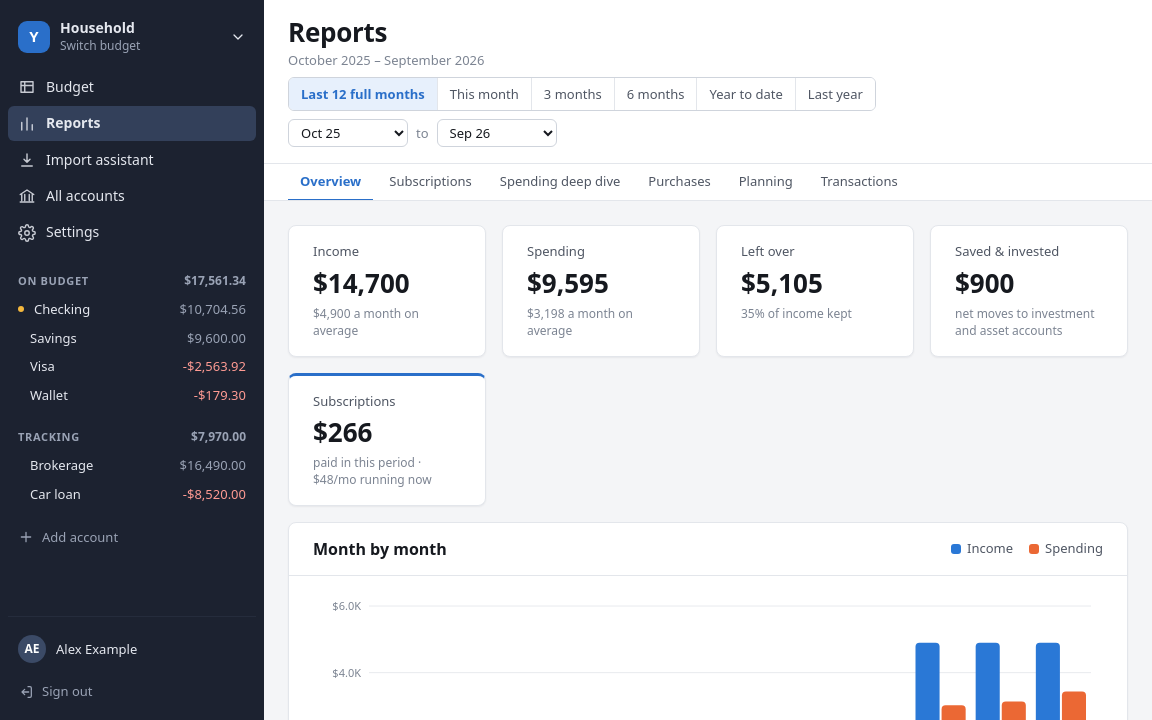
it: App › shows every report tab
Expected: the heading "Month by month" is shown, [313,538,447,560]
Click the tab "Subscriptions": (431, 183) [377,164,484,201]
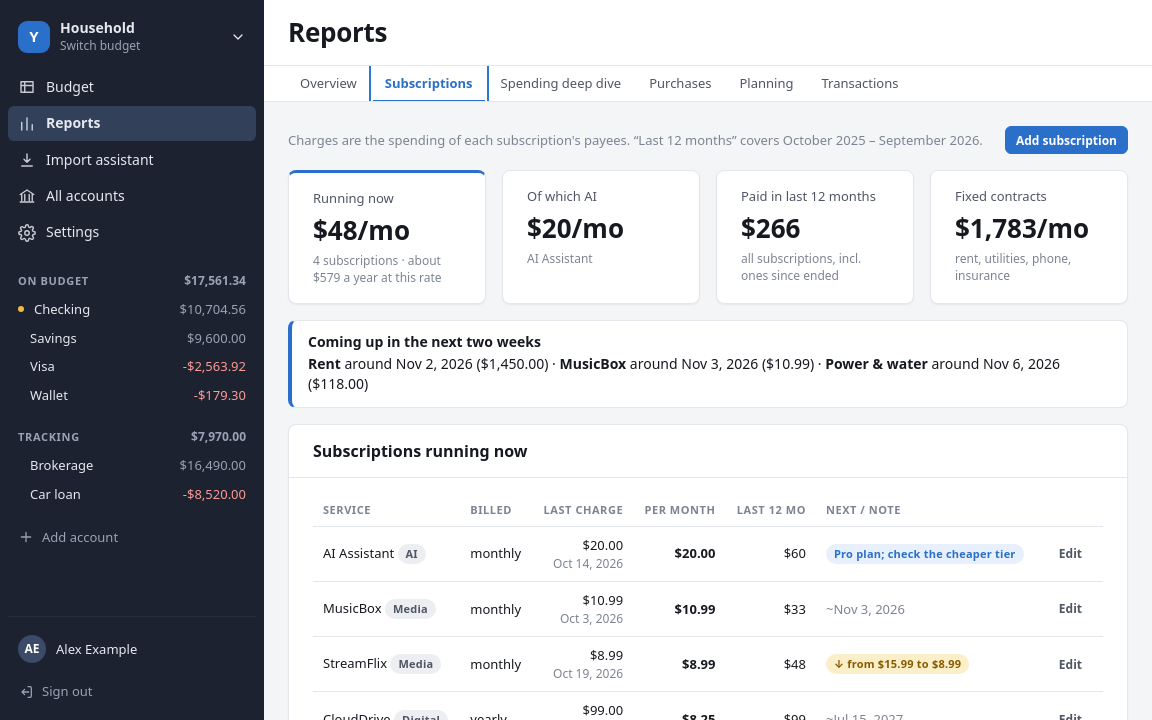
Expected: the heading "Subscriptions running now" is shown, [313,440,528,462]
Expected: the text "MusicBox" is shown, [560,354,626,373]
Click the tab "Spending deep dive": (561, 84) [488,66,633,102]
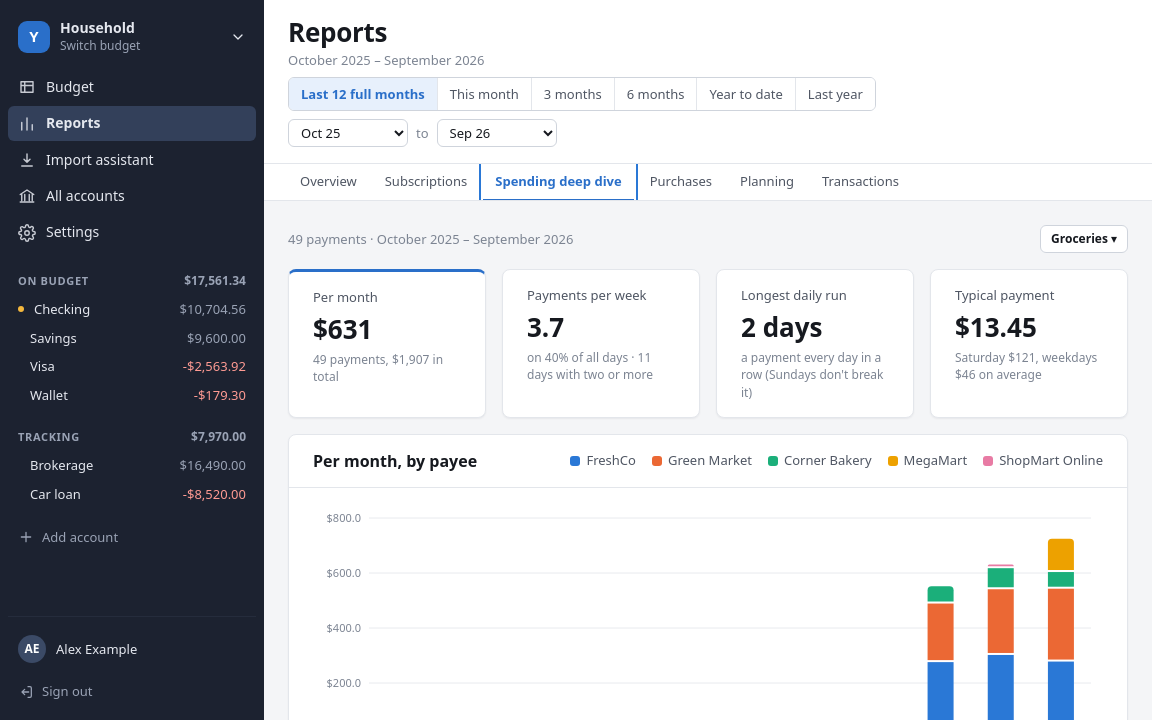
Expected: the heading "Per month, by payee" is shown, [313,450,477,472]
Click the tab "Purchases": (681, 183) [638,164,724,201]
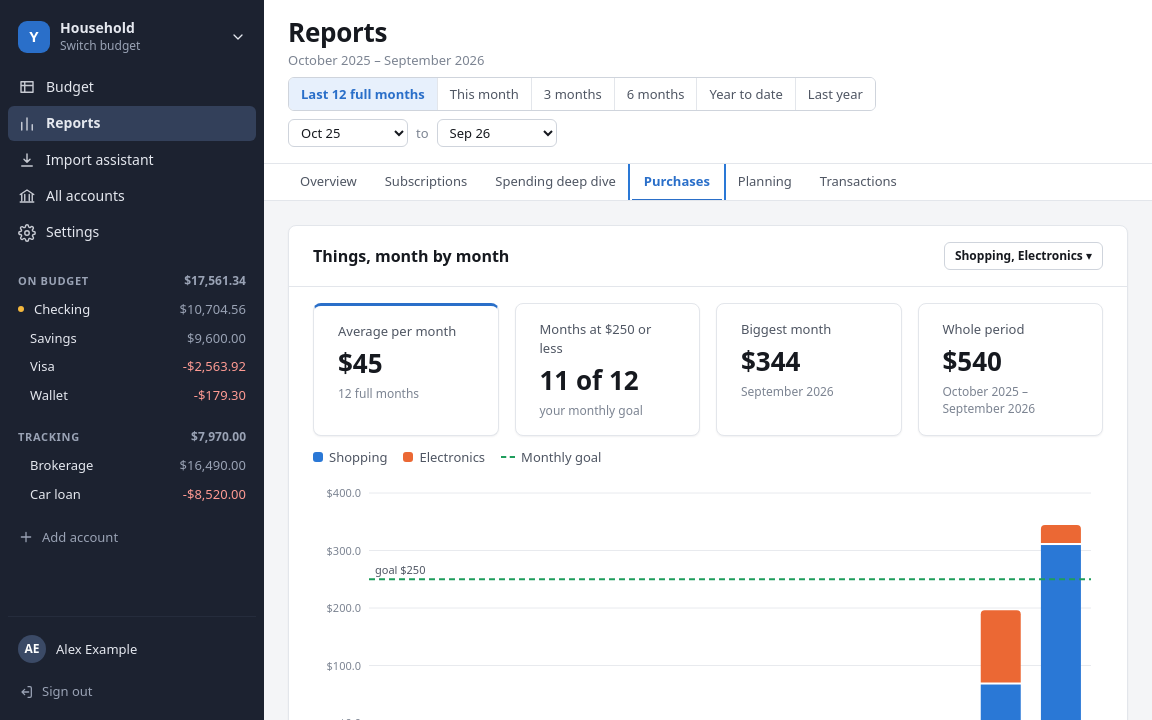
Expected: the heading "Things, month by month" is shown, [313,245,509,267]
Click the tab "Planning": (765, 183) [726,164,804,201]
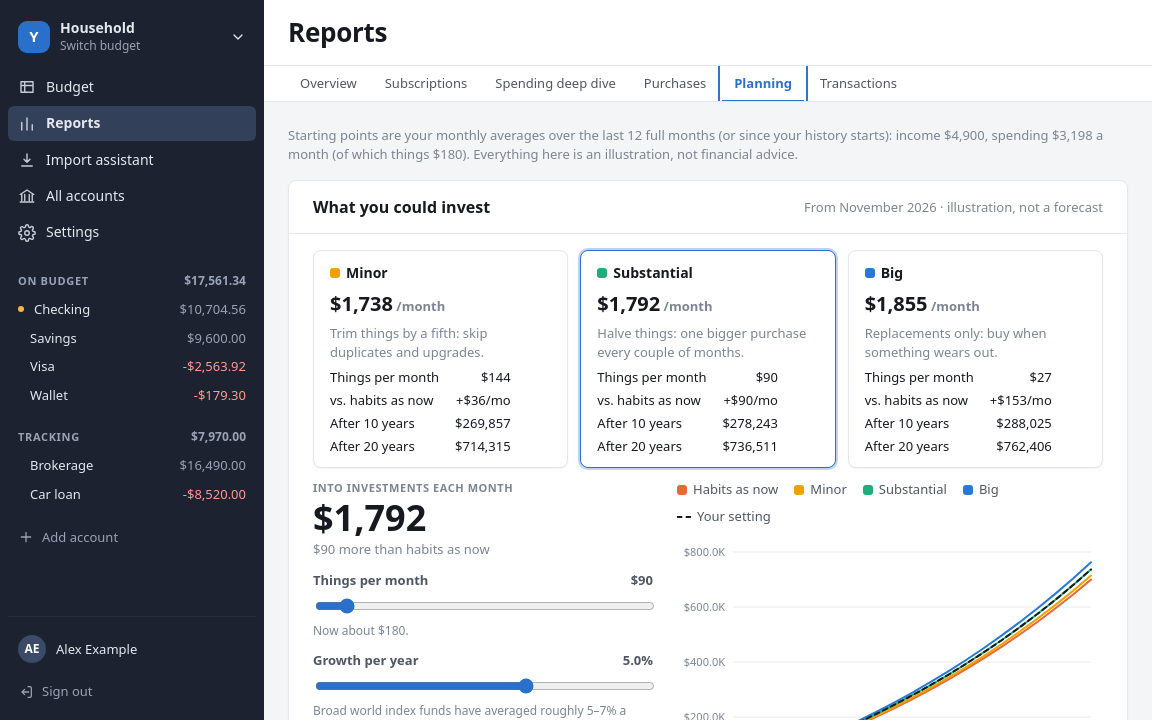
Expected: the heading "What you could invest" is shown, [313,196,490,218]
Click the tab "Transactions": (858, 84) [808,66,909,102]
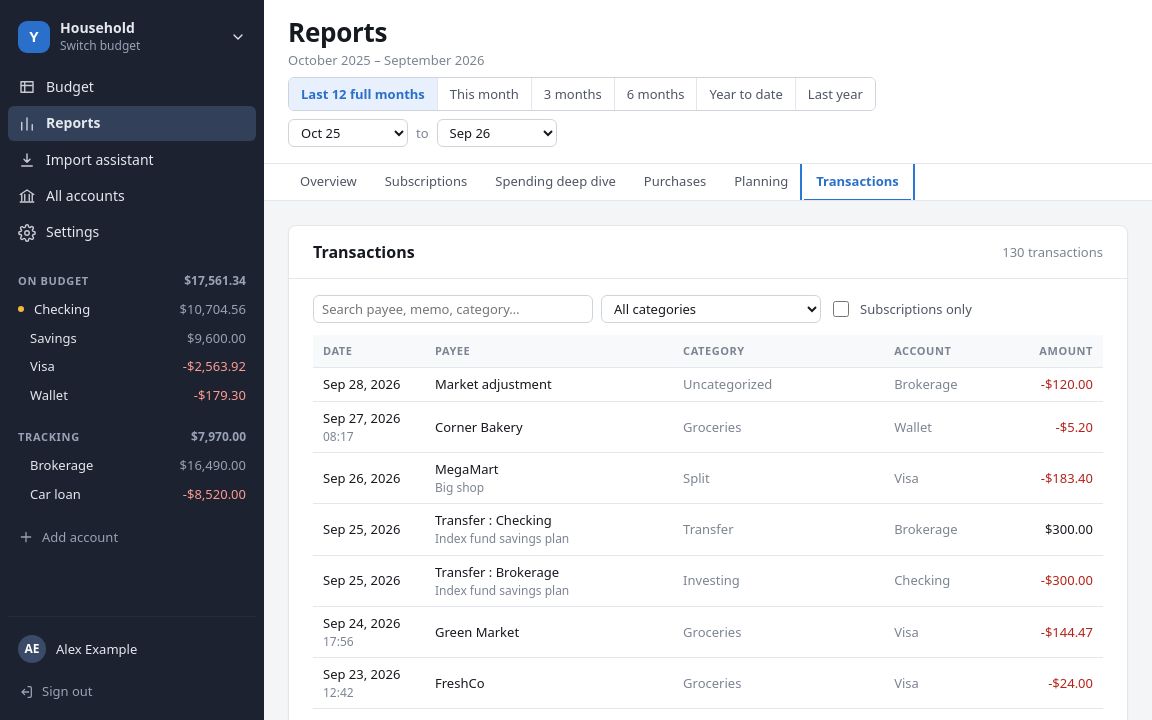
Expected: the search field named "Search transactions" is shown, [313,295,593,323]
